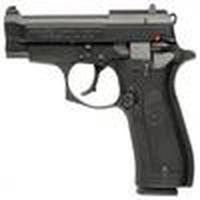gun: (1, 4, 198, 197)
